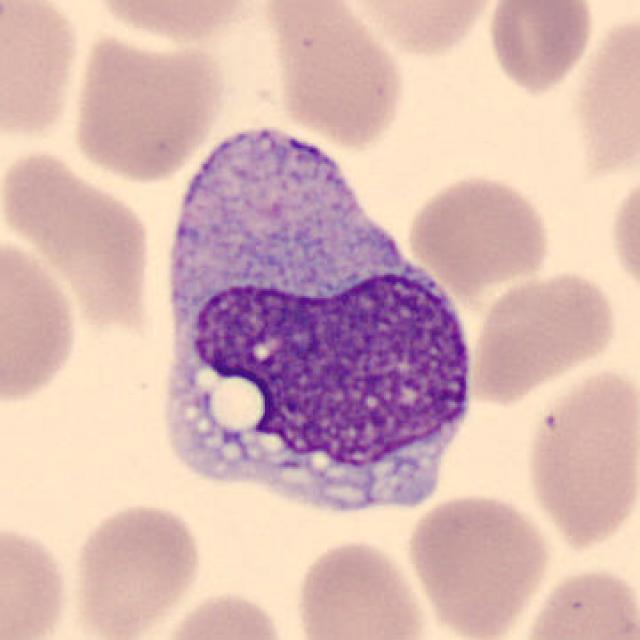Monocyte: (140, 106, 486, 534)
RBC: (0, 141, 158, 330), (66, 27, 229, 185), (261, 0, 411, 150), (403, 488, 553, 638), (521, 361, 638, 552), (464, 266, 620, 404), (66, 497, 208, 638), (404, 169, 554, 289), (0, 229, 84, 411), (290, 534, 430, 640), (569, 7, 640, 185), (0, 0, 85, 146), (482, 0, 597, 99), (341, 0, 503, 58), (518, 562, 638, 640), (0, 516, 74, 640), (82, 0, 260, 46), (149, 585, 295, 640), (606, 166, 640, 307)
